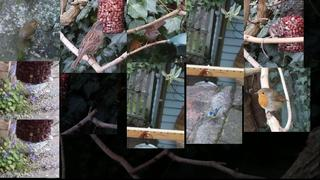blue tit: (207, 106, 222, 125)
dunnock: (70, 20, 107, 69), (144, 20, 166, 48)
mouse: (261, 20, 284, 59)
robin: (254, 88, 290, 120), (17, 20, 40, 46)
